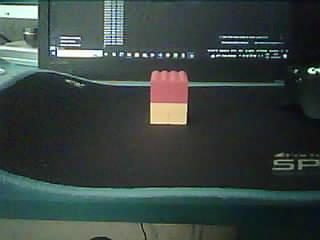lego: (149, 69, 188, 125)
